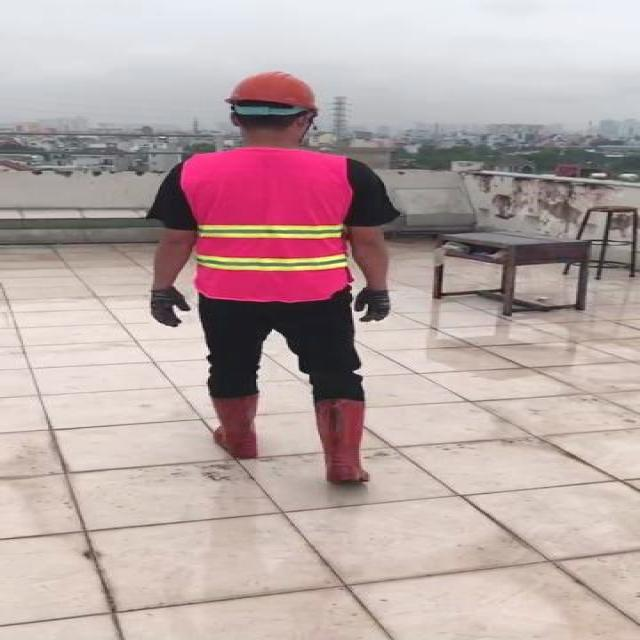boots: (311, 397, 381, 483), (204, 390, 265, 460)
hand_glove: (148, 288, 190, 326), (354, 289, 391, 324)
head_helmet: (220, 70, 324, 114)
person: (137, 65, 405, 492)
vest: (180, 148, 353, 301)
